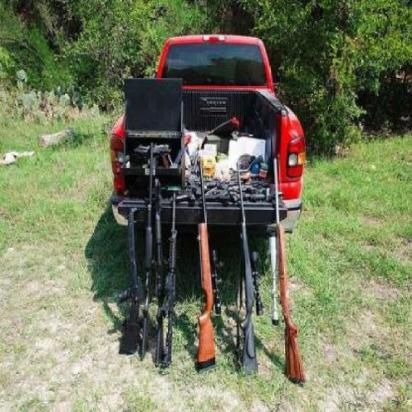Gun: (182, 154, 223, 376)
